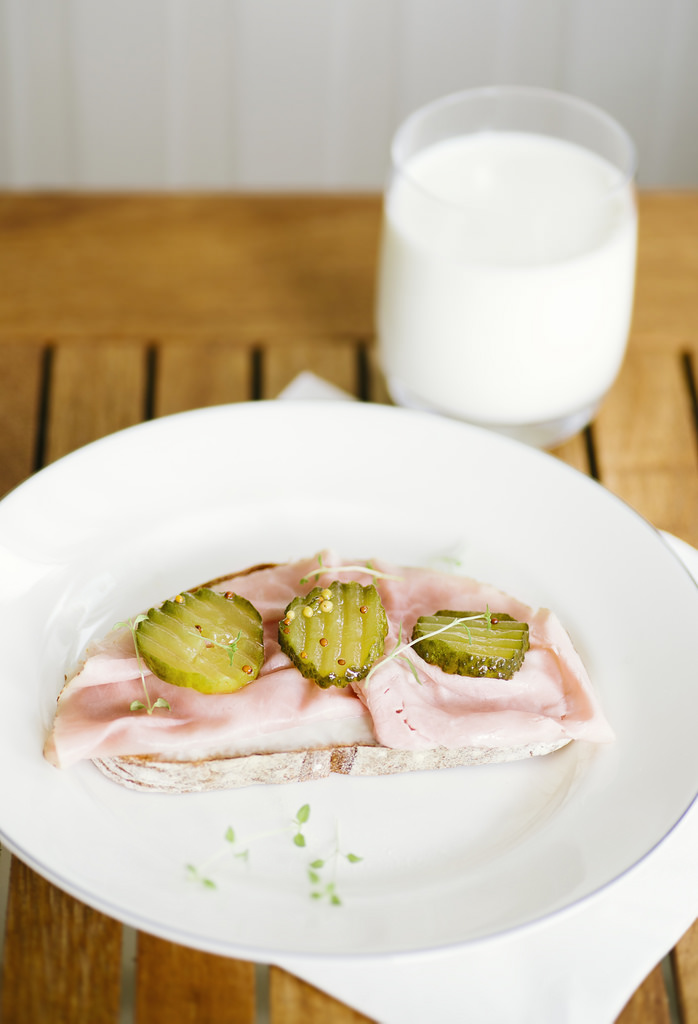glass of milk: (376, 89, 637, 436)
slice of bread: (103, 733, 576, 795)
